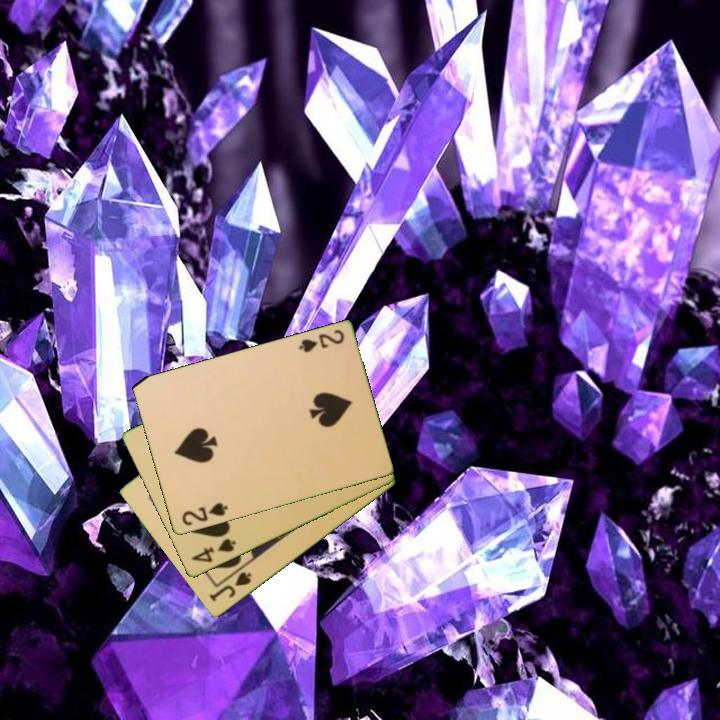2s: (178, 499, 230, 529), (295, 326, 347, 356)
4s: (187, 535, 239, 566)
Js: (206, 569, 254, 605)
